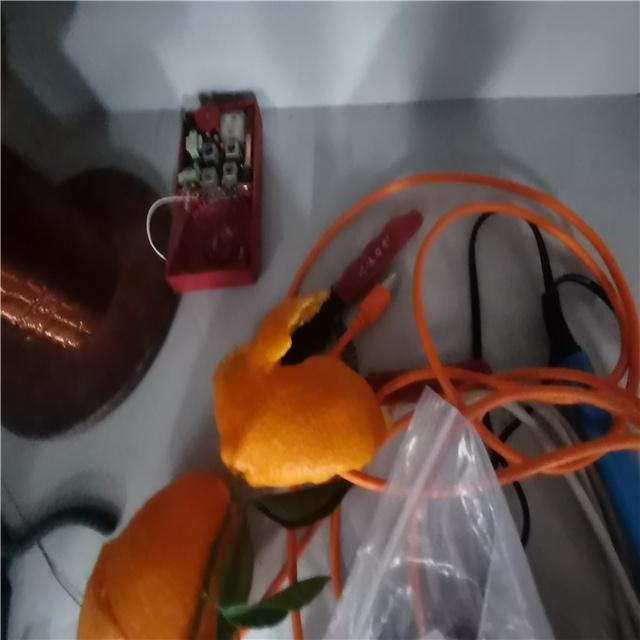orange-peel: (210, 288, 390, 491), (75, 469, 244, 638)
